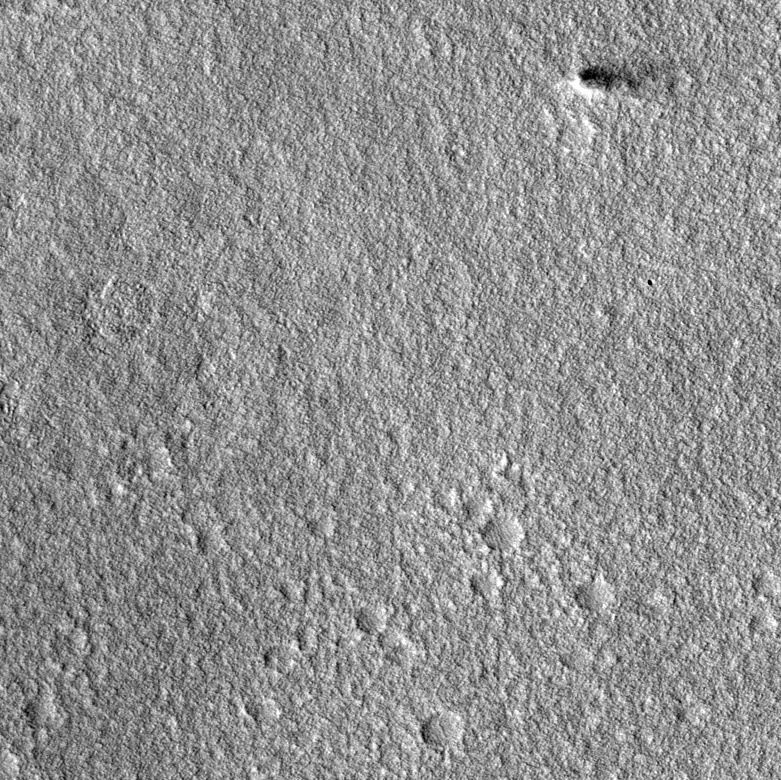dust_devil: (569, 60, 657, 102)
